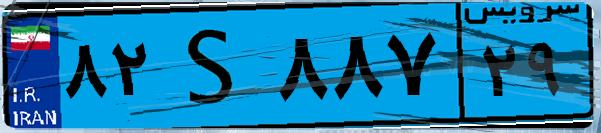2: (475, 38, 525, 113), (110, 28, 158, 98)
7: (385, 28, 445, 110)
8: (270, 28, 330, 110), (330, 28, 385, 110), (57, 26, 110, 100)
9: (525, 38, 570, 115)
S: (158, 12, 270, 120)
